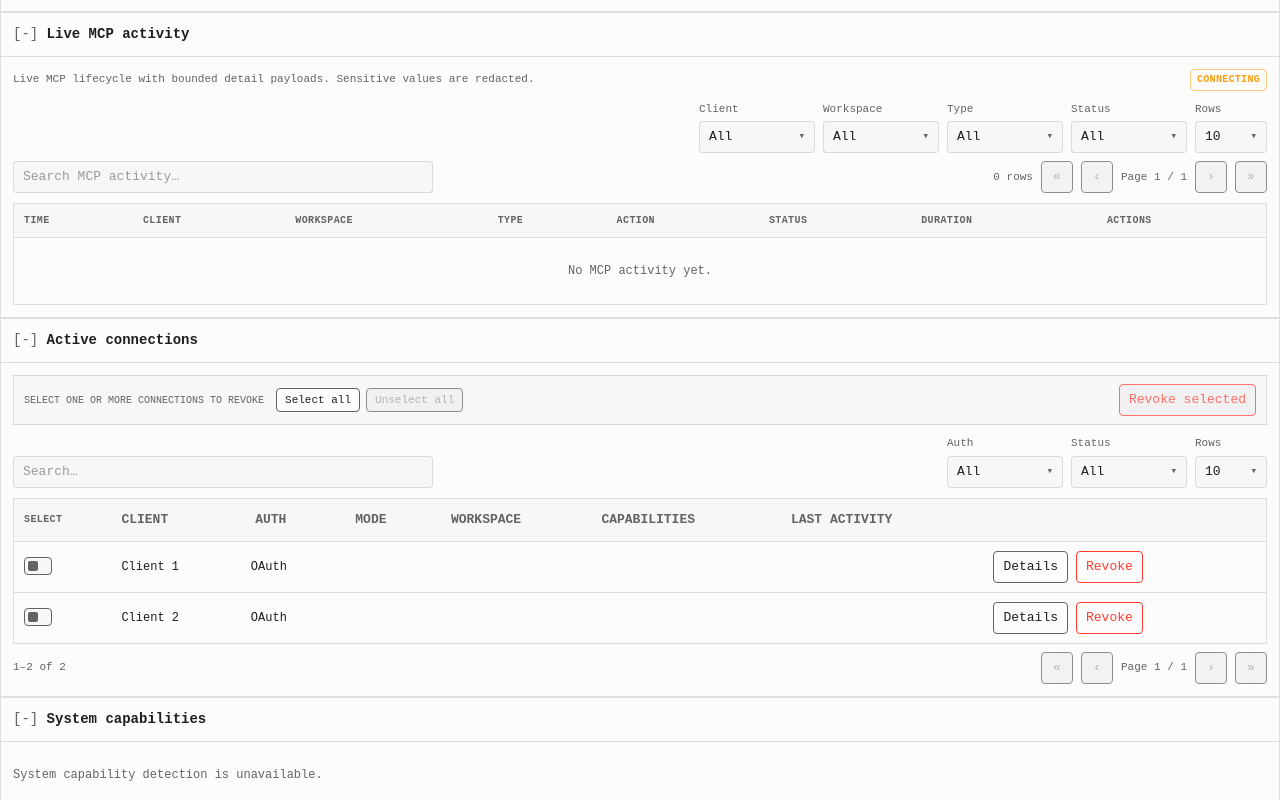
Test: Active connections can select all and unselect all rows
(page scrolled)
expect the button "Unselect all" is disabled: met, box [366,388,463,412]
Click the button "Select all": (318, 400) [276,388,360,412]
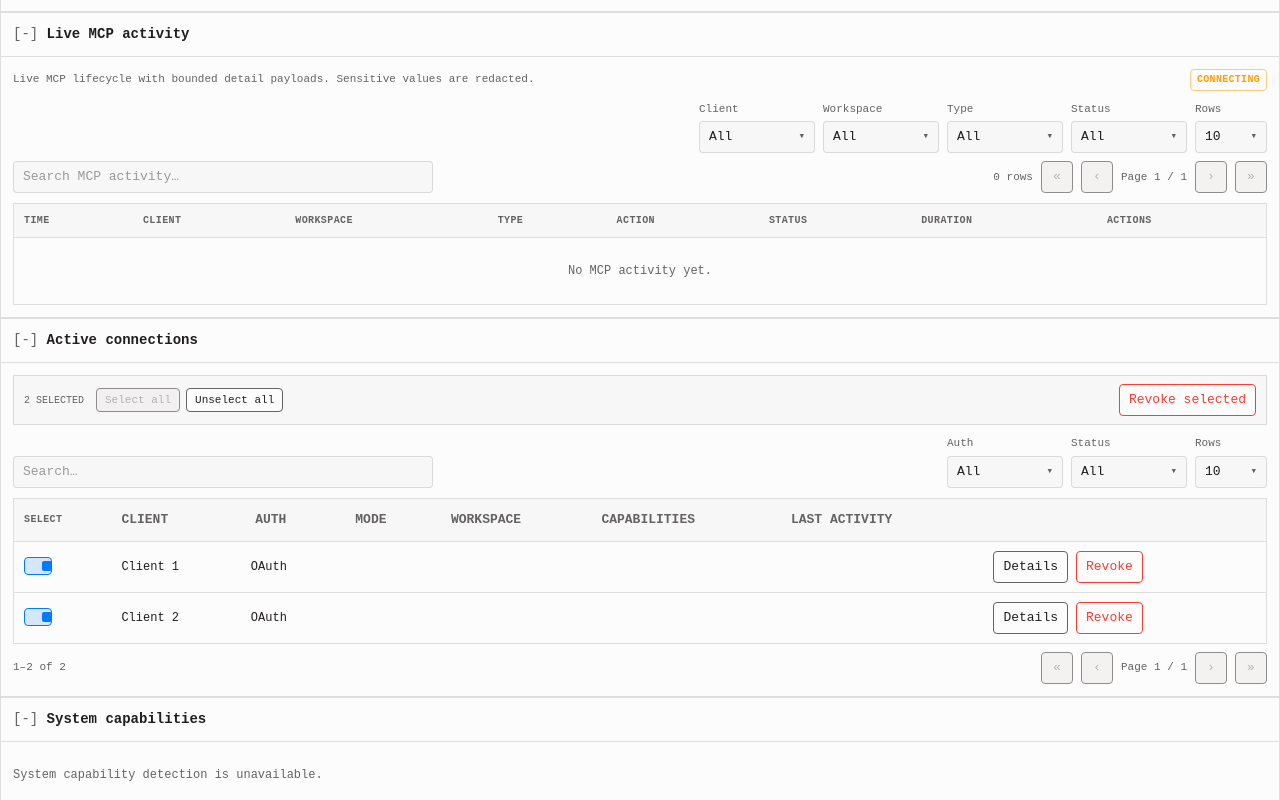
expect the text "2 selected" is shown: met, box [24,393,84,408]
expect the switch named "Select Client 1" is checked: met, box [24,556,52,576]
expect the switch named "Select Client 2" is checked: met, box [24,607,52,627]
Click the button "Unselect all": (235, 400) [186,388,283,412]
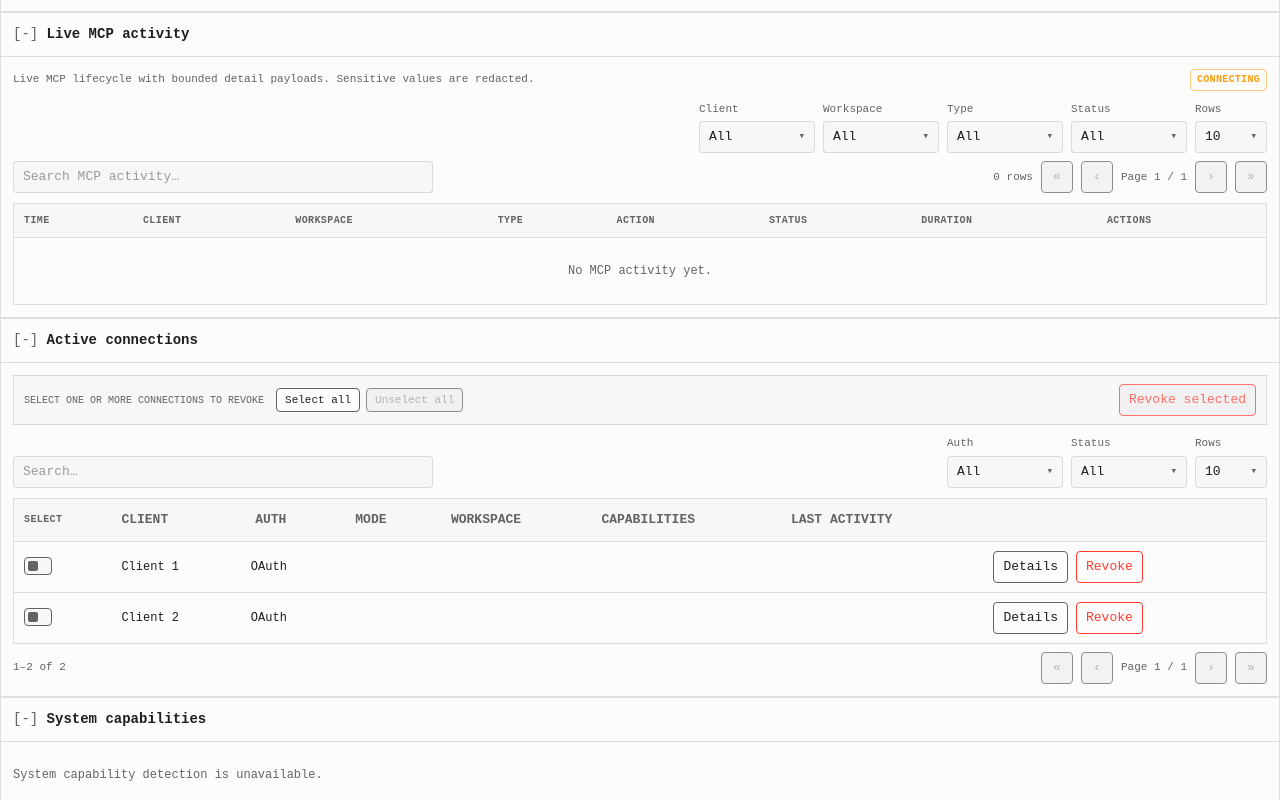
expect the text "Select one or more connections to revoke" is shown: met, box [24,393,264,408]
expect the switch named "Select Client 1" is not checked: met, box [24,556,52,576]
expect the switch named "Select Client 2" is not checked: met, box [24,607,52,627]
